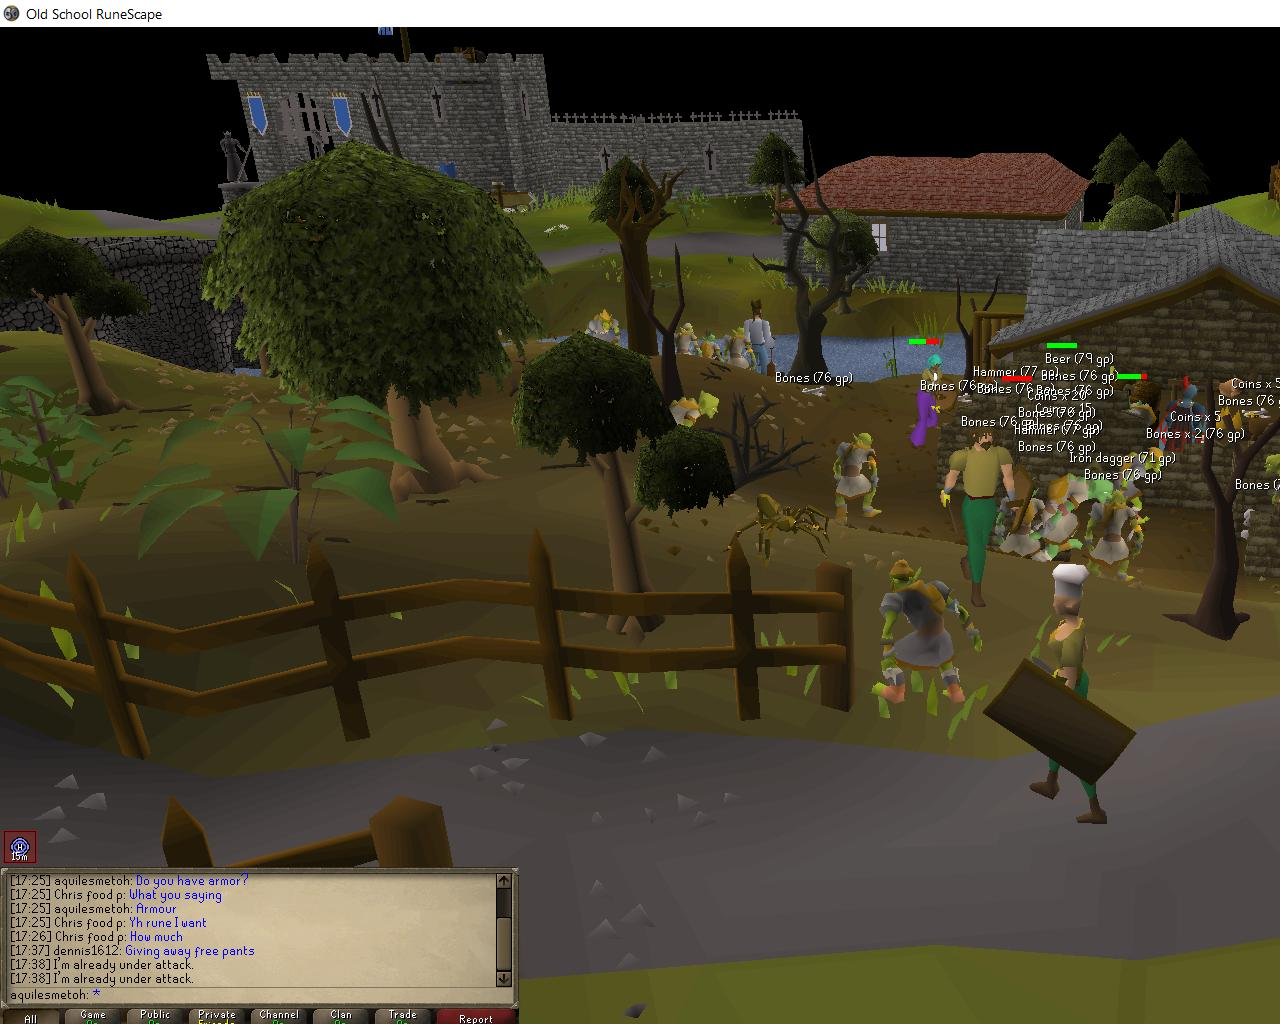Goblin: (869, 555, 980, 712), (827, 429, 892, 526), (1043, 473, 1113, 563), (1084, 490, 1146, 582), (1107, 446, 1165, 530), (997, 486, 1049, 563), (664, 381, 723, 434), (722, 328, 760, 373), (583, 310, 623, 352), (671, 323, 702, 362), (699, 333, 727, 368)
